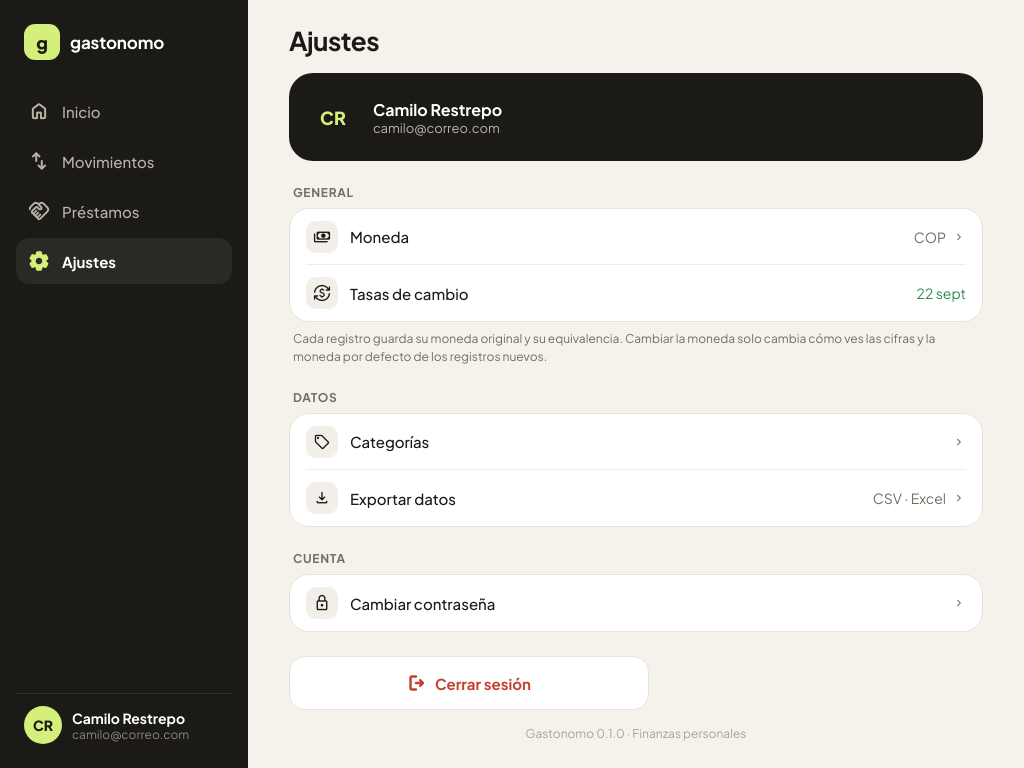
App › cerrar sesion borra la sesion y devuelve a Entrar
Click the button "Cerrar sesión".
click(469, 683)  # box [289,656,649,710]
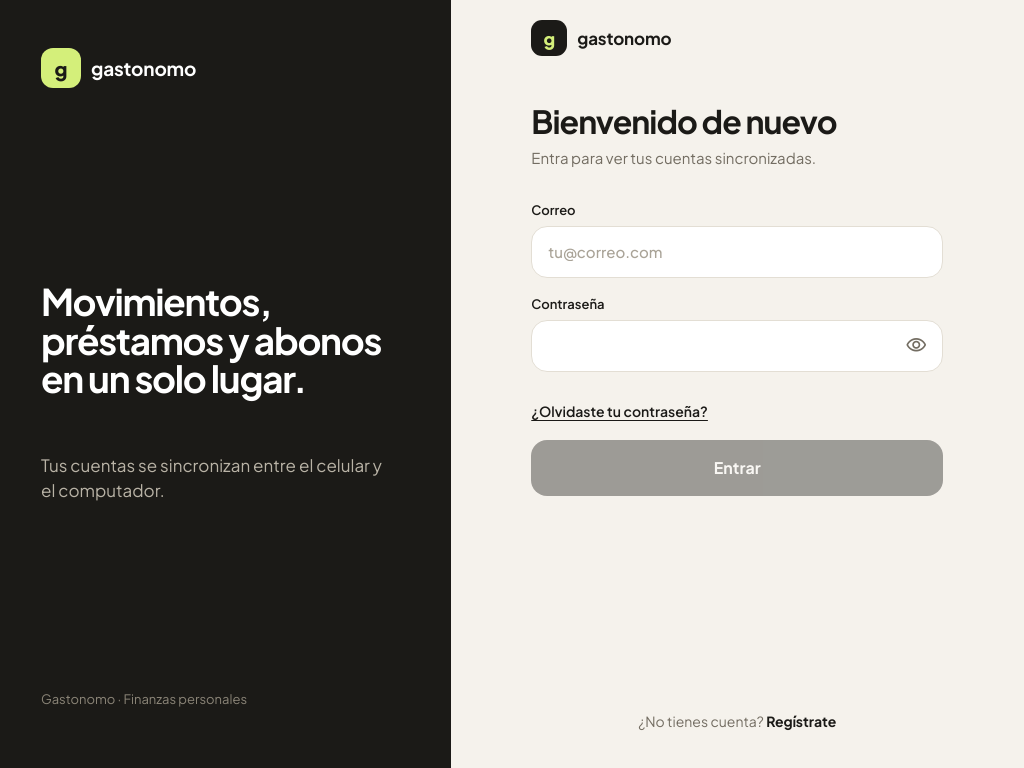
Expected: the heading "Bienvenido de nuevo" is shown, [531,101,837,141]
